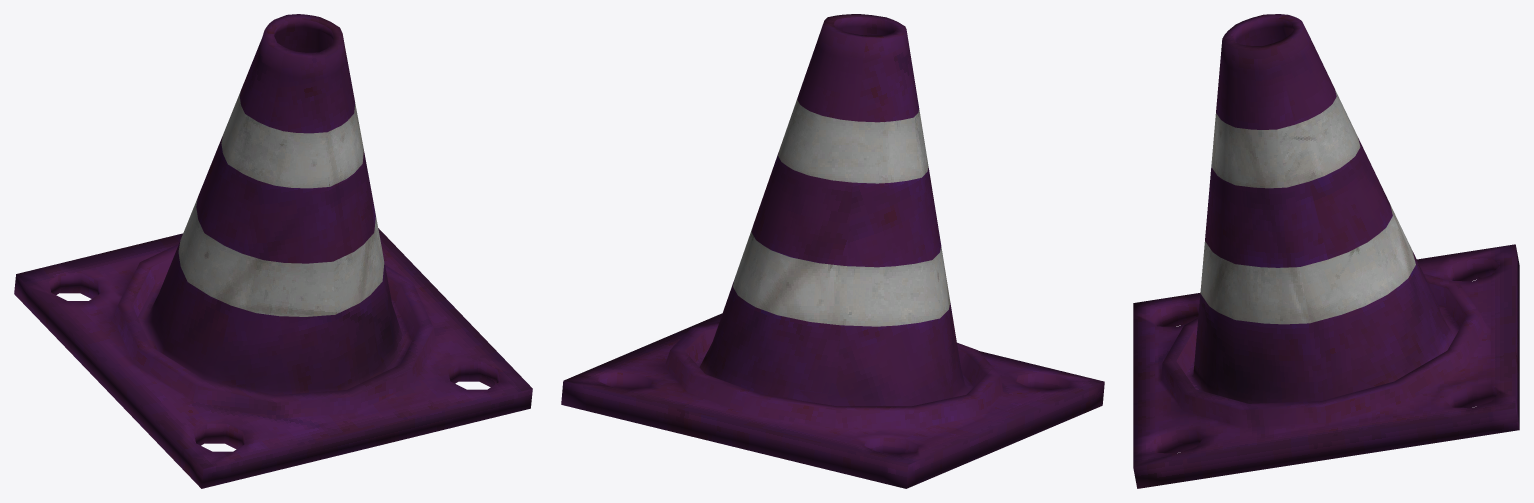
Rendered from purple_cone.glb.
3 views of the same model, side by side, from view 1: azimuth 30°, elevation 25°; view 2: azimuth 150°, elevation 25°; view 3: azimuth 270°, elevation 25° (orthographic). The views are drawn at different scales.
Parts seen in each view (by area): view 1: purple_cone.001; view 2: purple_cone.001; view 3: purple_cone.001.
Boxes of the visible parts, left/top/right/bottom form: purple_cone.001: left=14, top=14, right=532, bottom=488; purple_cone.001: left=561, top=14, right=1104, bottom=488; purple_cone.001: left=1133, top=14, right=1519, bottom=488.
Bounding box in the file's own units: 0.8092 × 0.8764 × 0.8063.
1 material, 1 textured.
